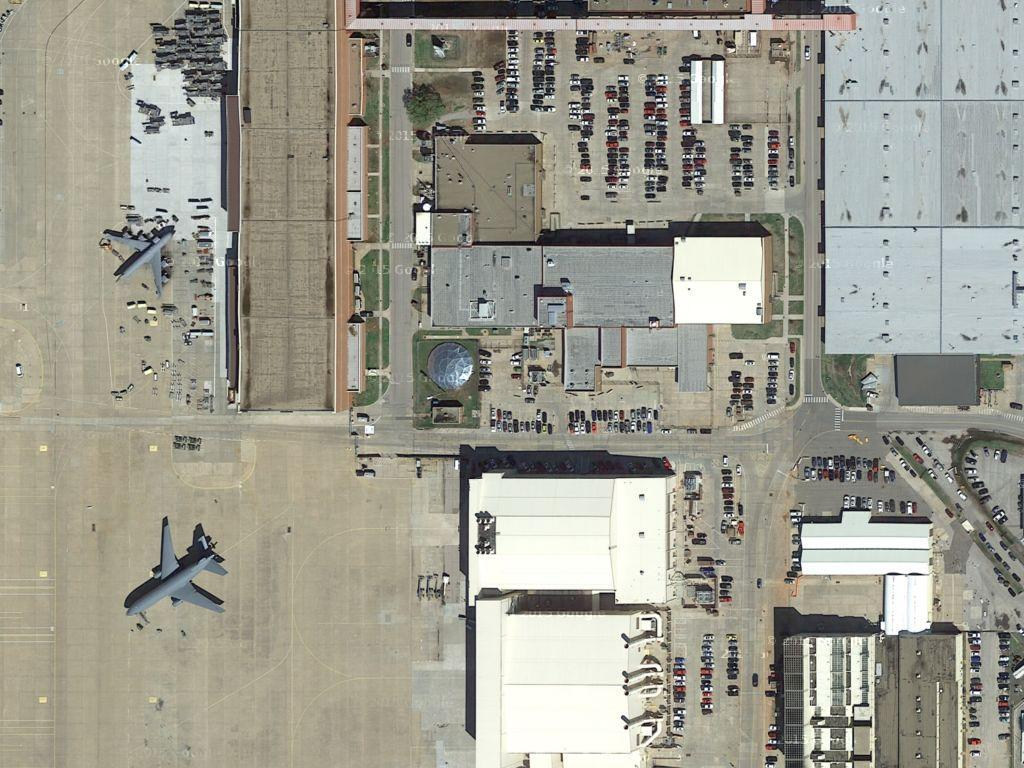KC-10: (122, 518, 232, 623)
KC-135: (97, 223, 178, 299)
